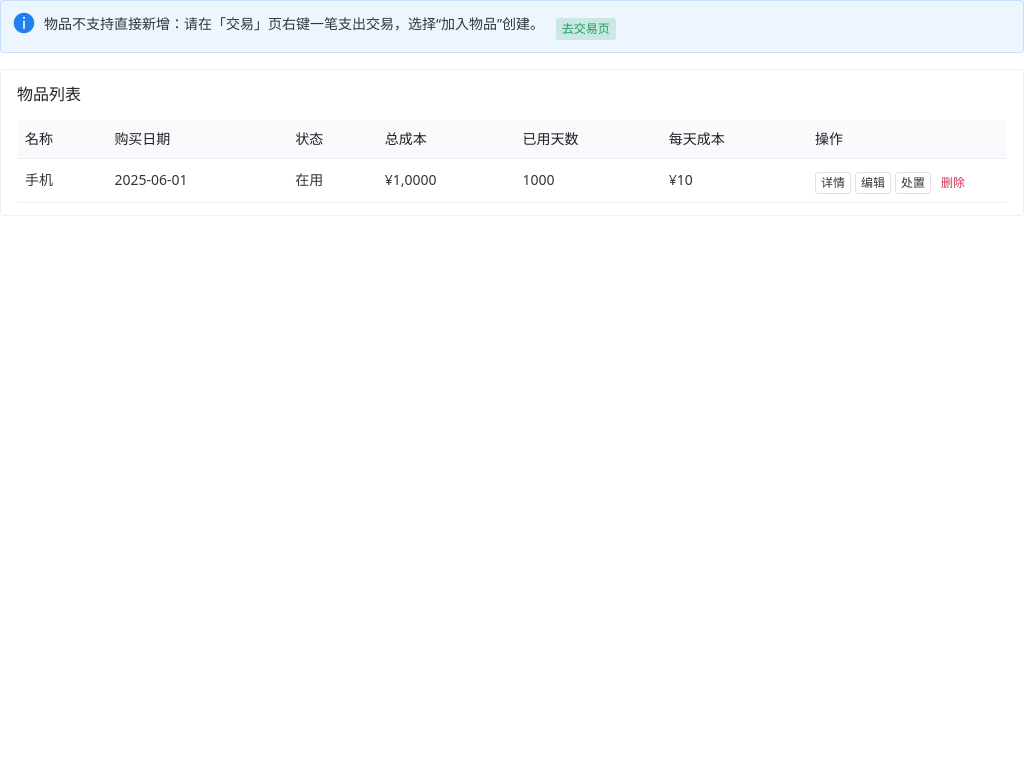
Test: ItemsView 物品详情（issue #117） › 详情展示备注与购买日期
This screenshot has width=1024, height=768.
Click the button "详情" at point(833, 183), box [815,172,851,194]
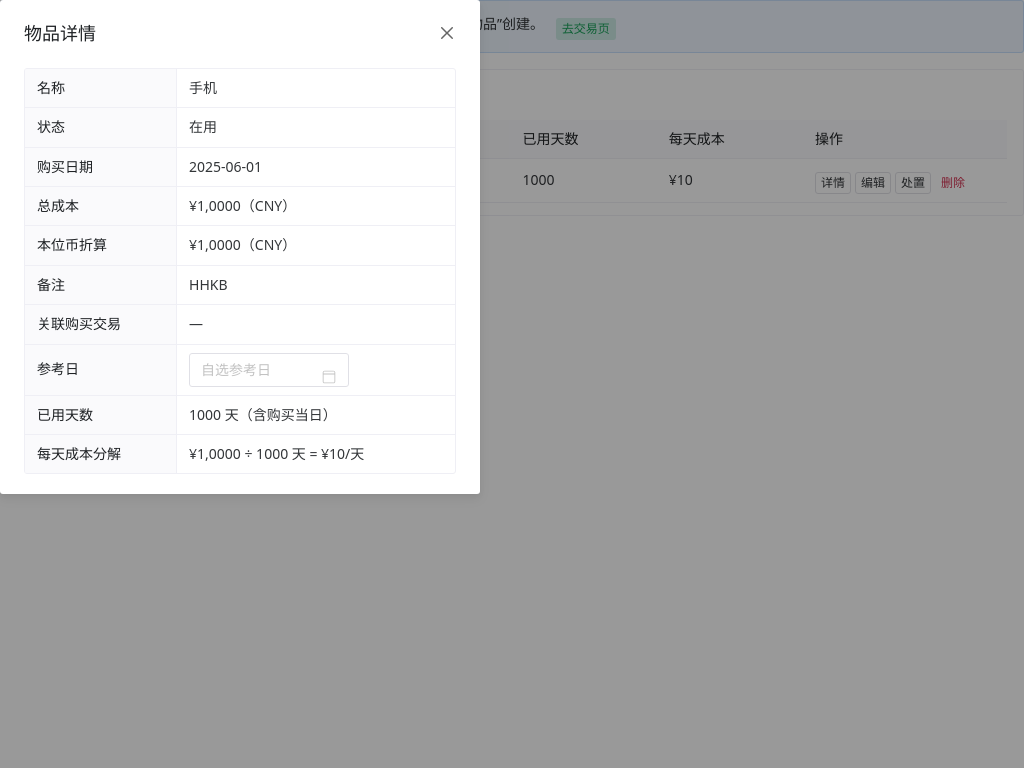
expect the dialog with test id "item-detail-modal" shows "HHKB": met, box [189,275,228,294]
expect the dialog with test id "item-detail-modal" shows "2025-06-01": met, box [189,157,262,176]
